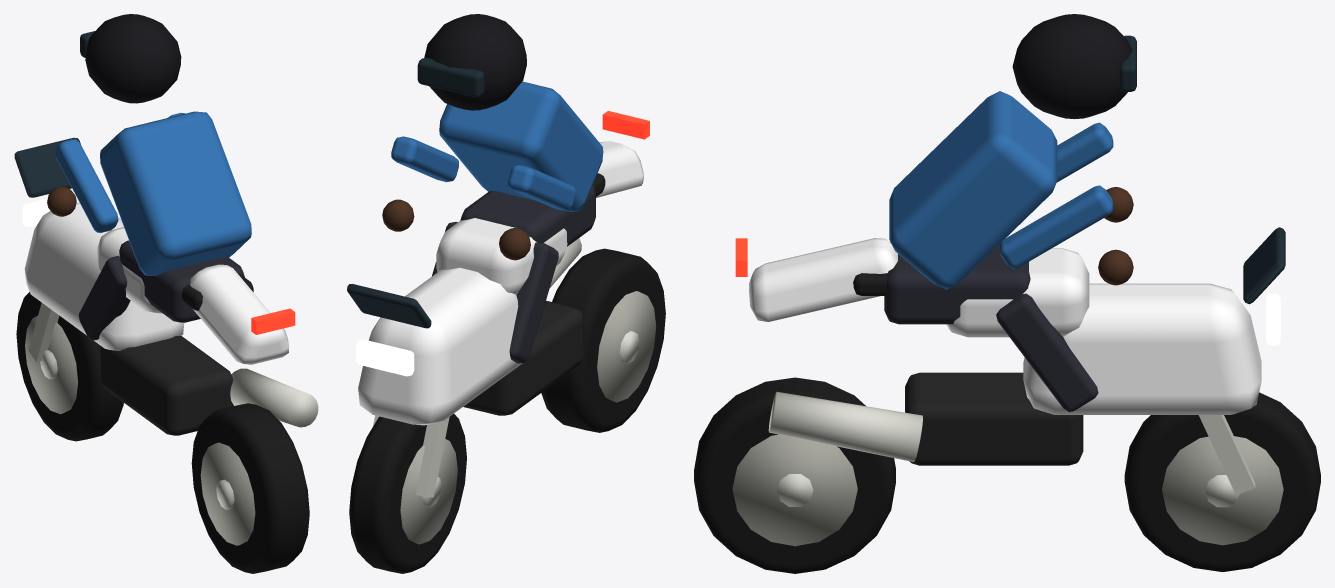
Rendered from superbike.glb.
3 renders of one model, left to right at view 1: azimuth 30°, elevation 25°; view 2: azimuth 150°, elevation 25°; view 3: azimuth 270°, elevation 25°, orthographic. The views are drawn at different scales.
Parts seen in each view (by area): view 1: superbike; view 2: superbike; view 3: superbike.
Part boxes in pixels (bbox=[...]): superbike: bbox=[14, 14, 318, 573]; superbike: bbox=[347, 14, 665, 573]; superbike: bbox=[694, 14, 1320, 573].
Bounding box in the file's own units: 0.62 × 2.03 × 2.11.
